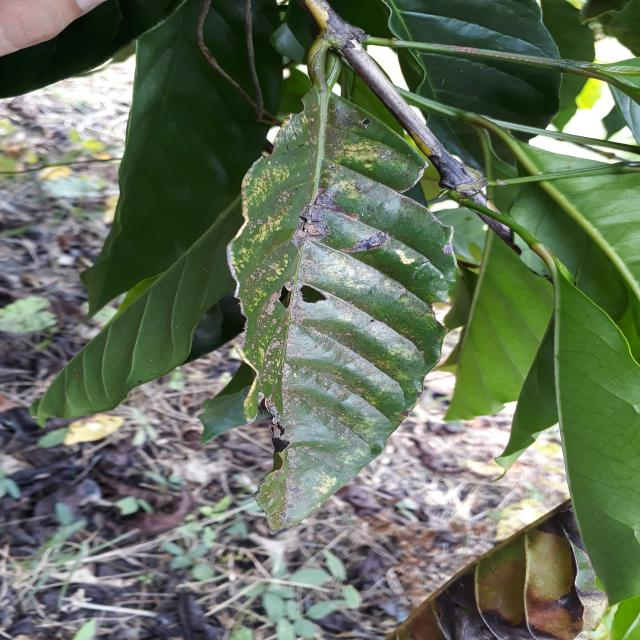Enfermedad-Roya: (230, 99, 458, 534)
